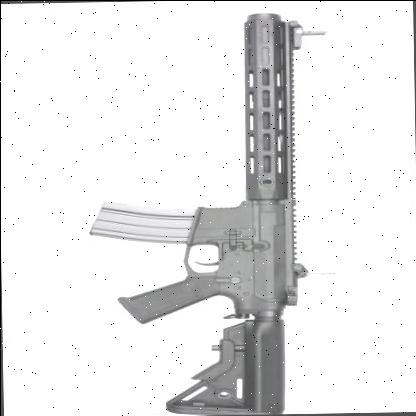rifle: (101, 13, 333, 416)
